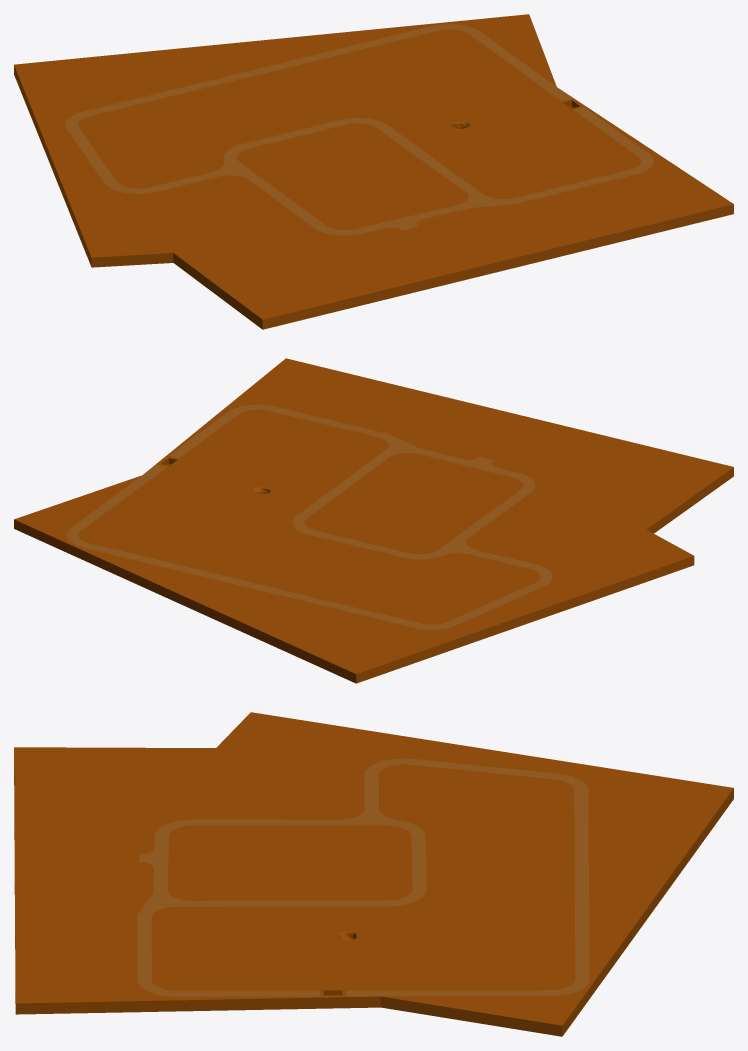
File: Hố đào.fbx
The picture shows the model from 3 angles, top to bottom: view 1: azimuth 30°, elevation 25°; view 2: azimuth 150°, elevation 25°; view 3: azimuth 270°, elevation 25°; orthographic projection. The views are drawn at different scales.
Parts seen in each view (by area): view 1: Toposolid Toposolid 2 [589703], Floor Đường nội bộ [589612]; view 2: Toposolid Toposolid 2 [589703], Floor Đường nội bộ [589612]; view 3: Toposolid Toposolid 2 [589703], Floor Đường nội bộ [589612].
Part boxes in pixels (x1,y1,x2,y2): Toposolid Toposolid 2 [589703]: (14,14,733,329); Floor Đường nội bộ [589612]: (65,24,653,235); Toposolid Toposolid 2 [589703]: (14,358,733,683); Floor Đường nội bộ [589612]: (66,404,552,629); Toposolid Toposolid 2 [589703]: (14,712,733,1036); Floor Đường nội bộ [589612]: (137,758,589,996).
Bounding box in the file's own units: 18179 × 304 × 17641.
